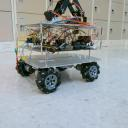cart: (16, 23, 104, 94)
